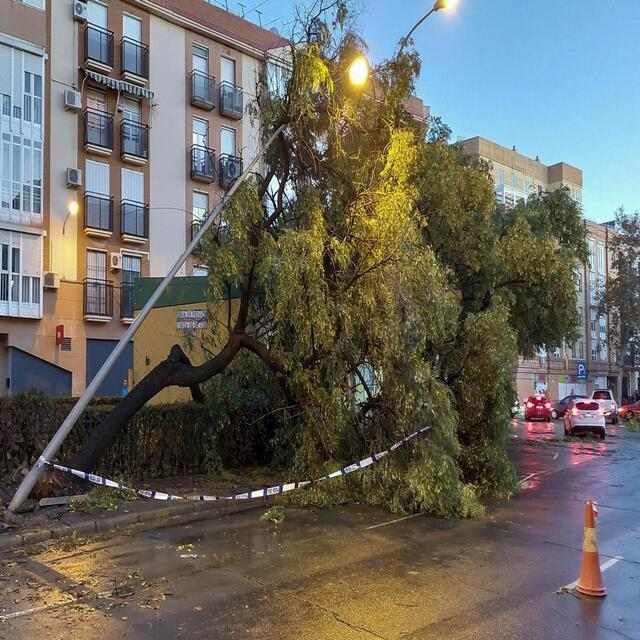Inclined Pole: (0, 121, 290, 510)
